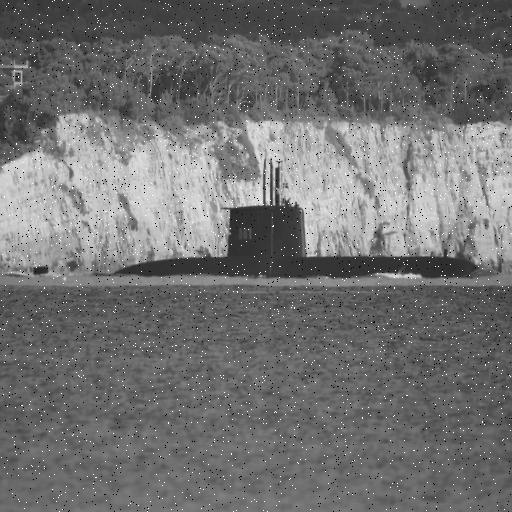submarine: (32, 157, 482, 279)
